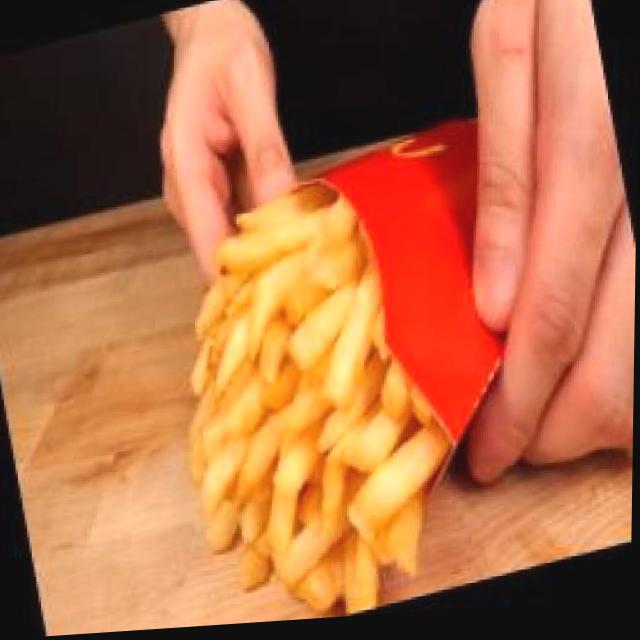french fries: (108, 126, 501, 634)
